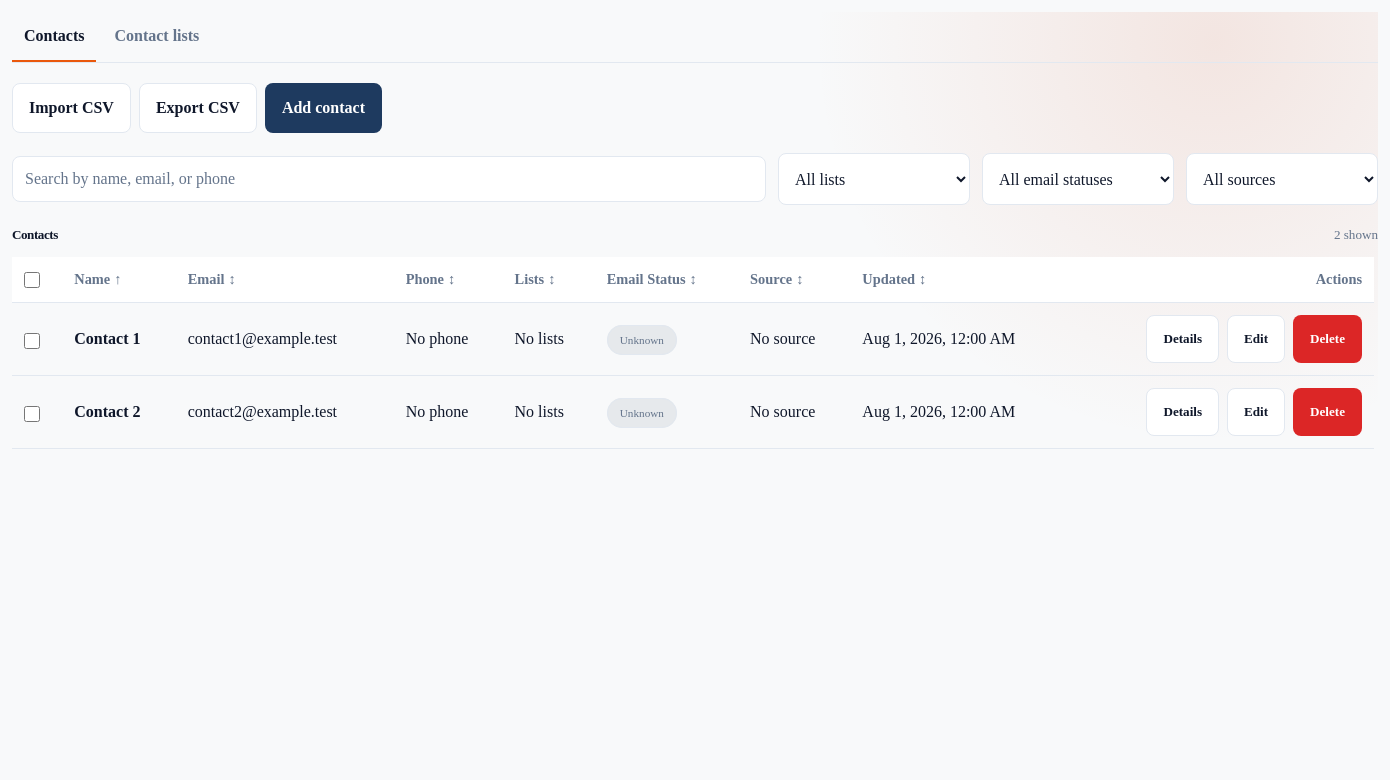
Test: creates a list inline and automatically adds all selected contacts
Click the checkbox named "Select all matching contacts": [32, 280] box [24,272,40,288]
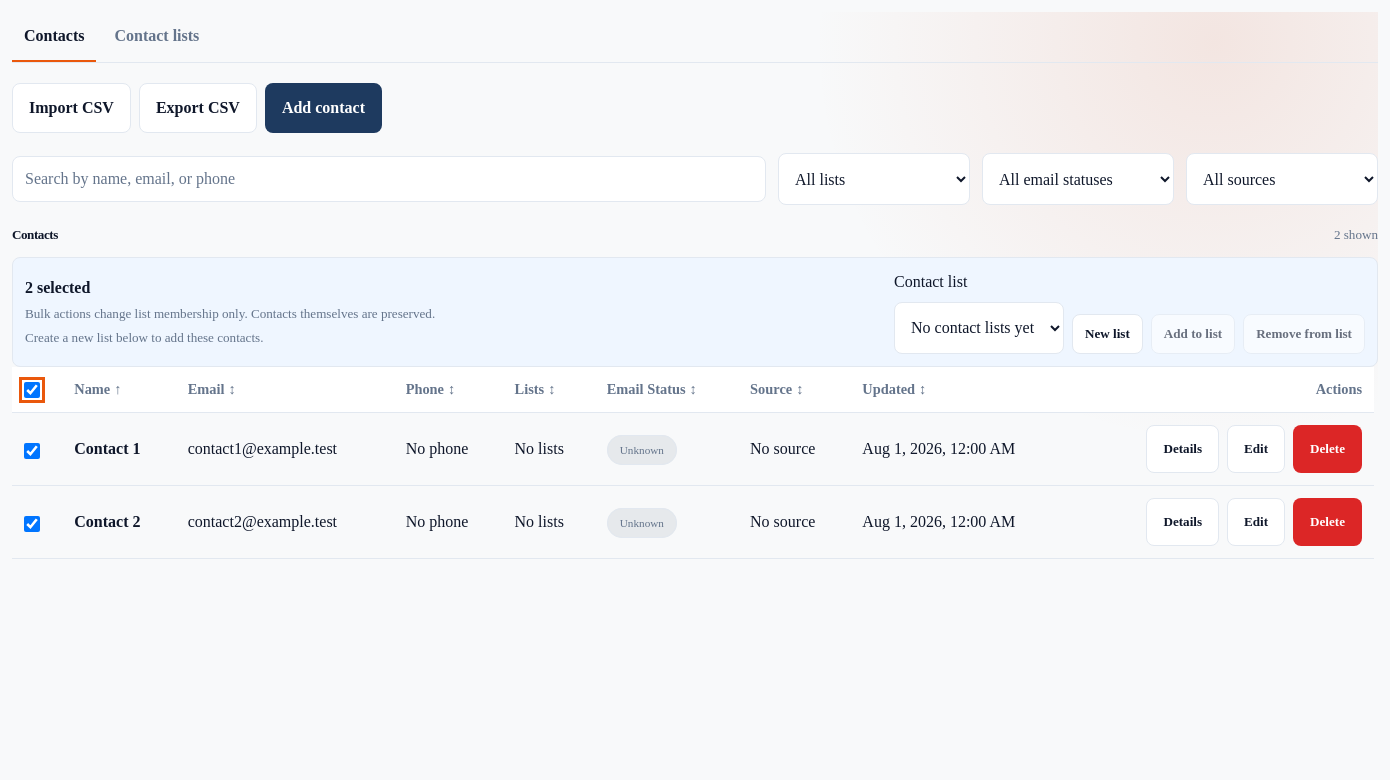
Click the button "New list": [1107, 334] box [1072,314,1143,354]
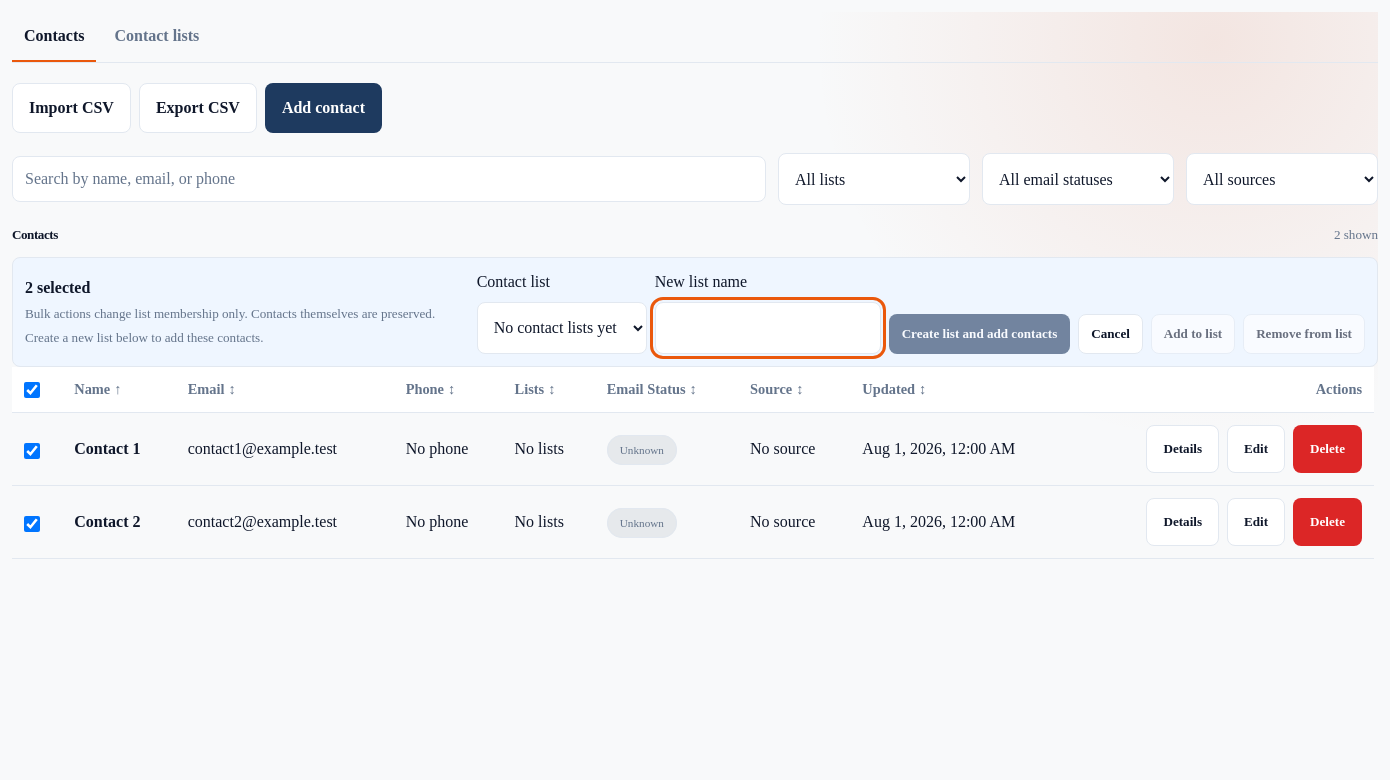
Result: the button "Create list and add contacts" is disabled at [889,314,1070,354]
In the field labelled "New list name": [768, 328] box [655,302,881,354], type " Newsletter "
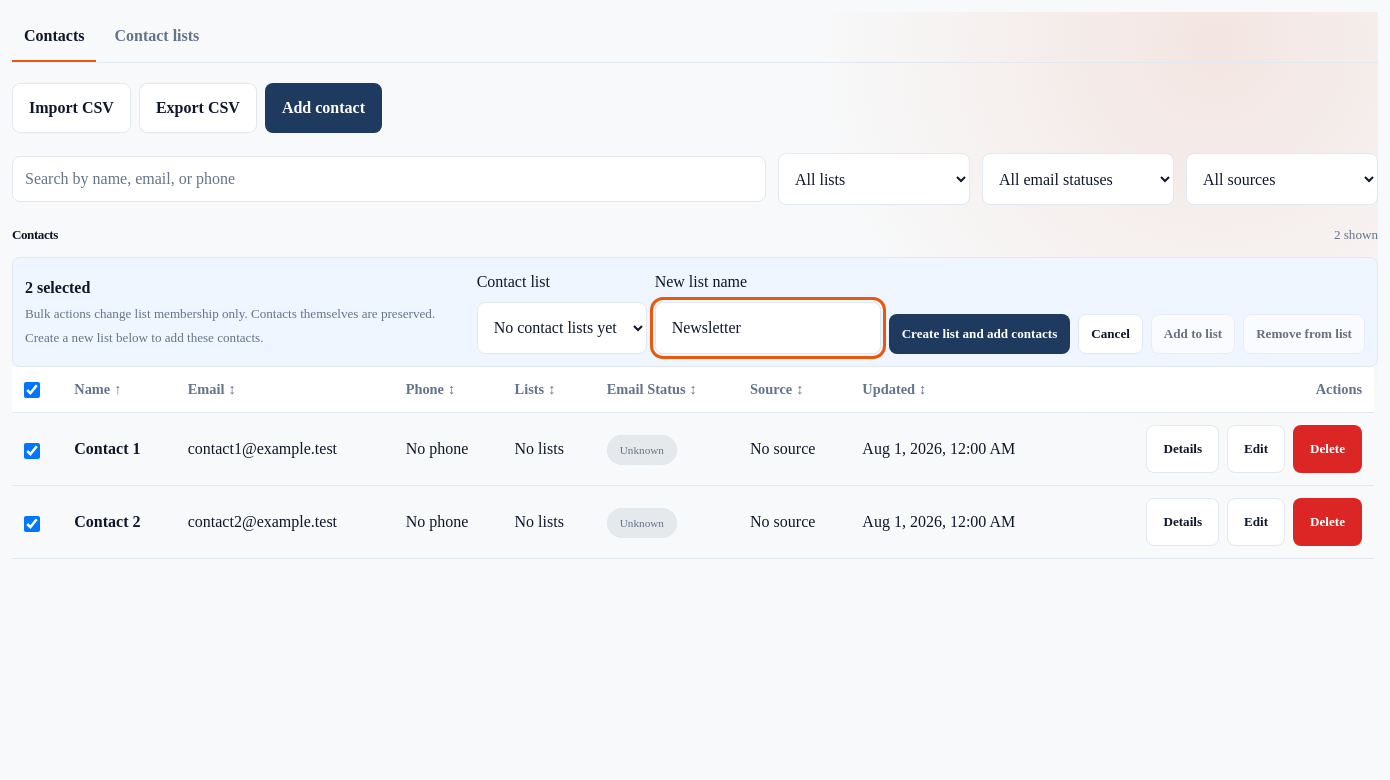
Press Enter
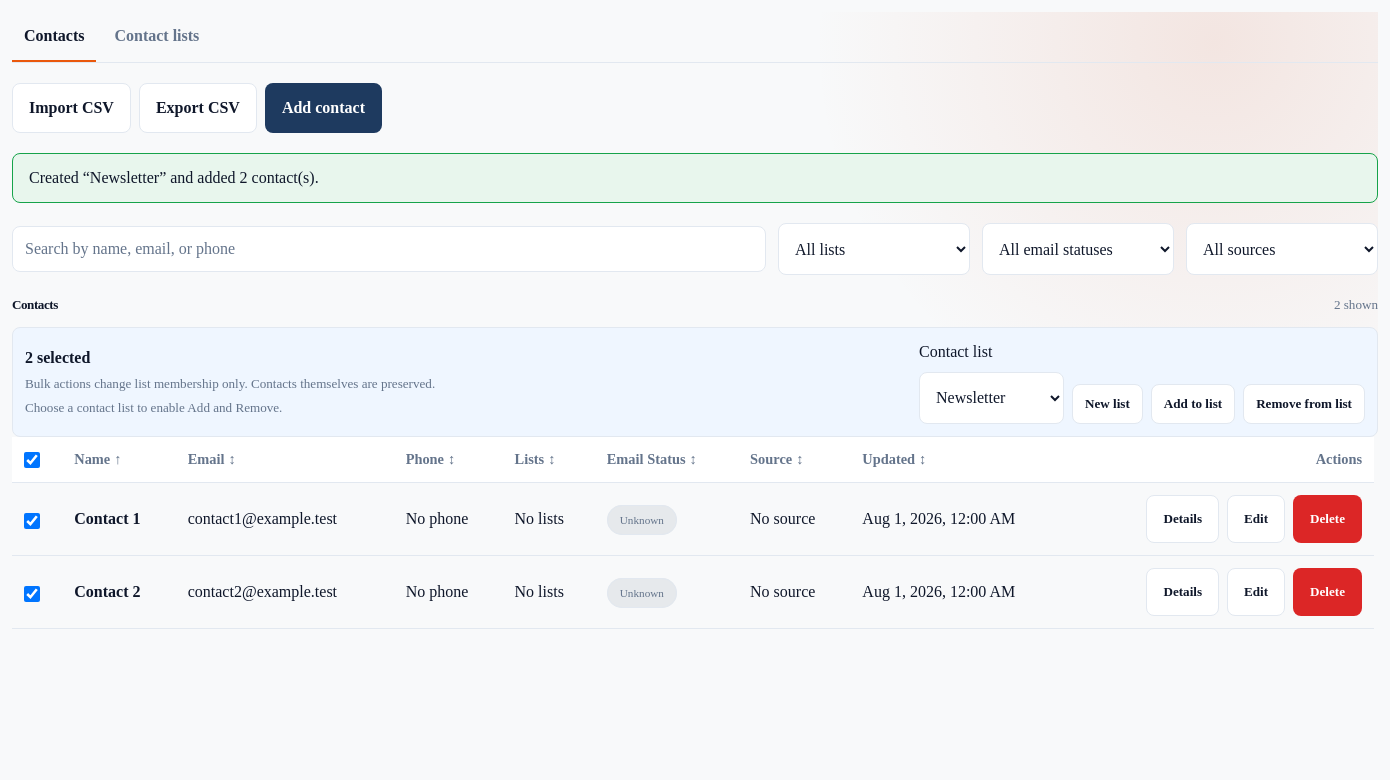
Result: the text "2 selected" is shown at [25,349,90,366]
Result: the text "Created “Newsletter” and added 2 contact(s)." is shown at [12,153,1378,203]
Result: the dropdown named "Choose a contact list for the bulk action" shows "Newsletter" at [919,372,1064,424]
